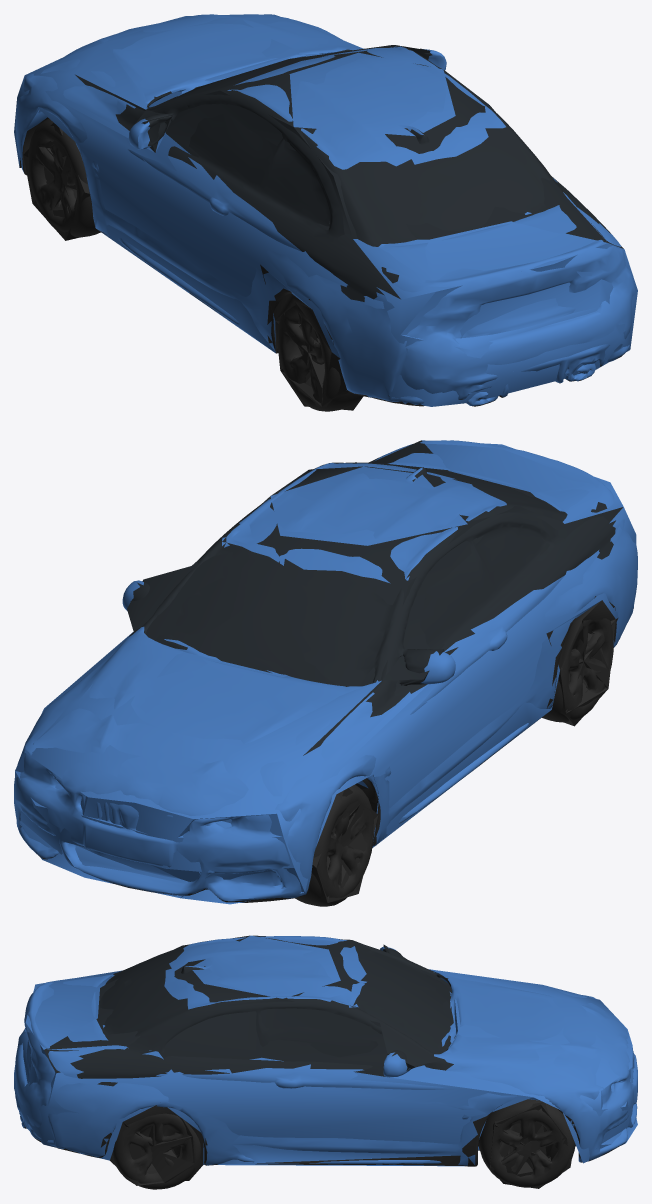
The model's file is bmw-4-series.glb.
3 views of the same model, one above another, from view 1: azimuth 30°, elevation 25°; view 2: azimuth 150°, elevation 25°; view 3: azimuth 270°, elevation 25° (orthographic). The views are drawn at different scales.
Parts seen in each view (by area): view 1: body, far; view 2: body, far; view 3: body, far.
Boxes of the visible parts, left/top/right/bottom form: body: left=15, top=14, right=635, bottom=411; far: left=14, top=15, right=637, bottom=410; body: left=14, top=440, right=637, bottom=906; far: left=15, top=440, right=636, bottom=904; body: left=15, top=936, right=637, bottom=1189; far: left=14, top=935, right=637, bottom=1188.
Size of the model in its own units: 2.08 by 1.46 by 4.65.
